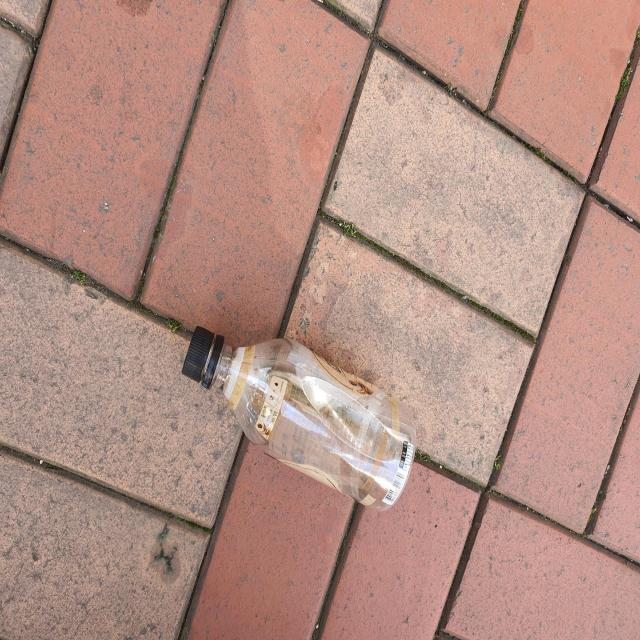plastic: (182, 326, 416, 510)
